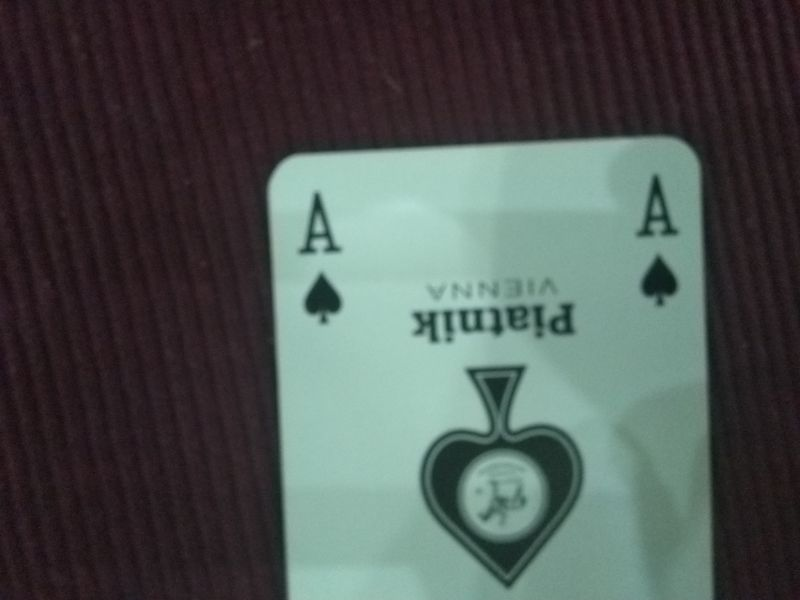As: (290, 182, 346, 332), (633, 166, 682, 321)
